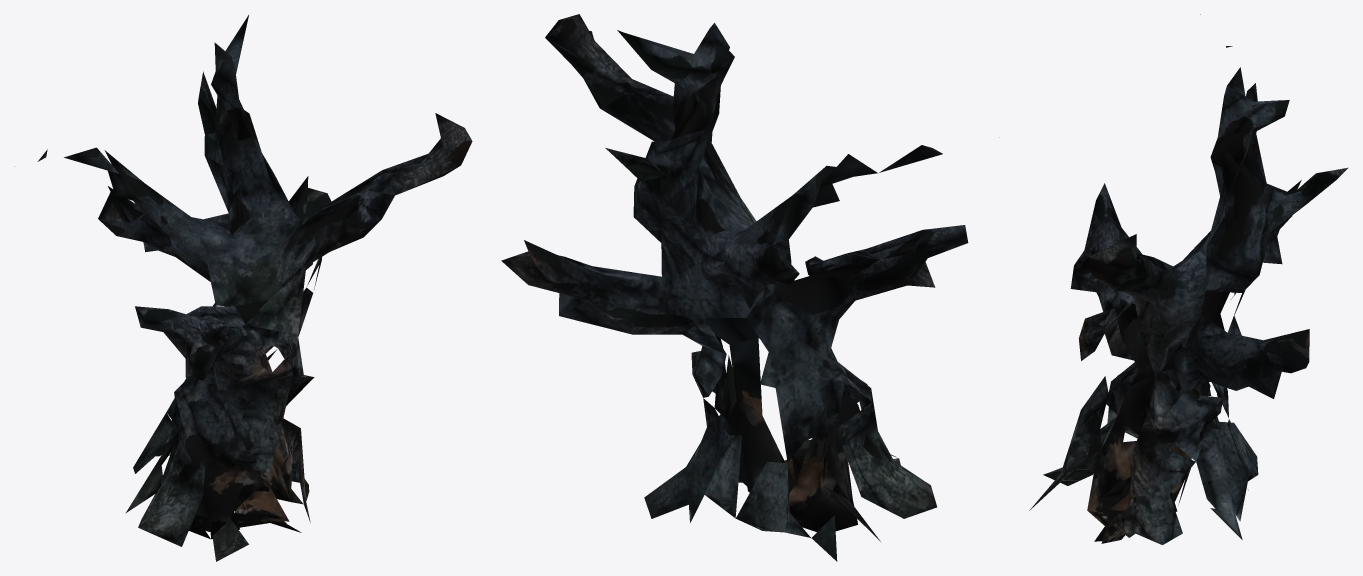
File: haunted-tree-2.glb
3 renders of one model, left to right at view 1: azimuth 30°, elevation 25°; view 2: azimuth 150°, elevation 25°; view 3: azimuth 270°, elevation 25°, orthographic. The views are drawn at different scales.
Parts seen in each view (by area): view 1: geometry_0; view 2: geometry_0; view 3: geometry_0.
Boxes of the visible parts, bbox=[...] form: geometry_0: bbox=[14, 15, 472, 561]; geometry_0: bbox=[501, 14, 999, 561]; geometry_0: bbox=[1029, 14, 1348, 544].
Bounding box in the file's own units: 0.7736 × 0.7997 × 0.499.
Materials: 1 (1 with a texture image).
